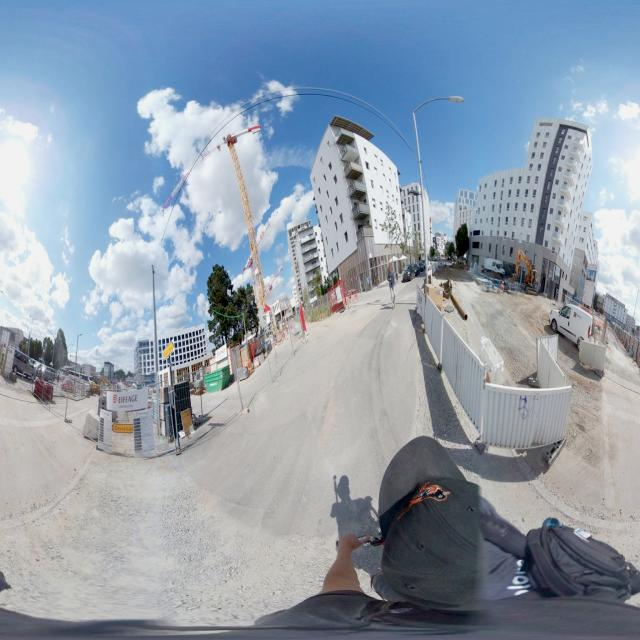car: (547, 302, 602, 345), (33, 372, 54, 402), (402, 264, 414, 283), (416, 259, 427, 276)
